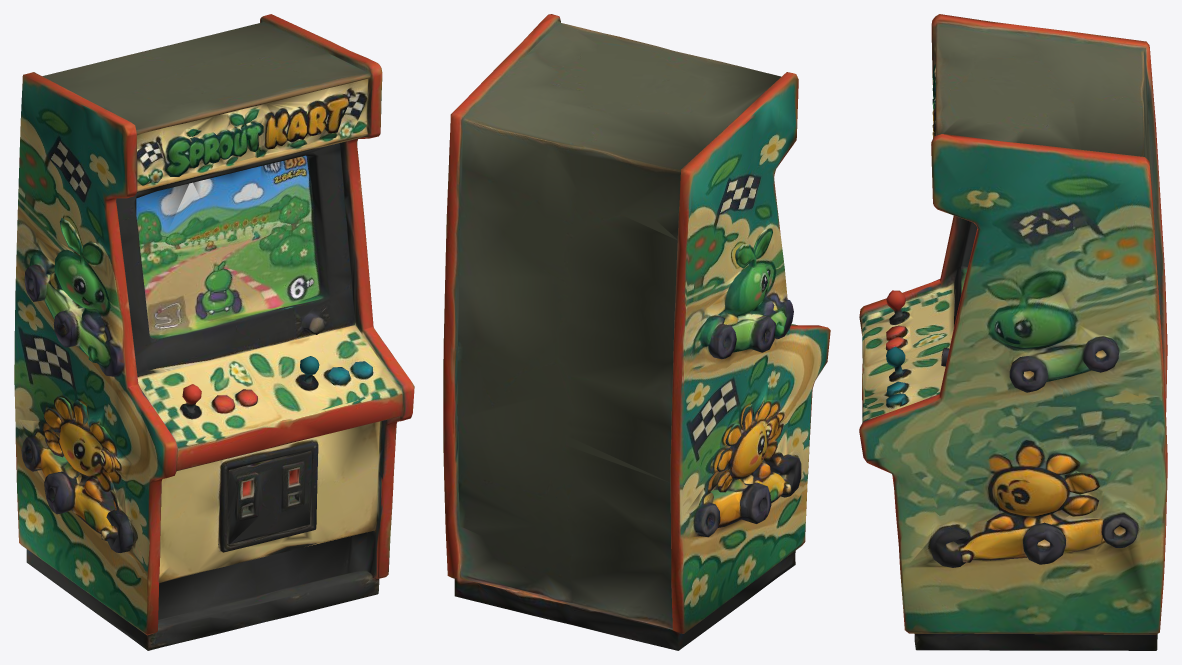
Rendered from cab_kart.glb.
3 views of the same model, side by side, from view 1: azimuth 30°, elevation 25°; view 2: azimuth 150°, elevation 25°; view 3: azimuth 270°, elevation 25° (orthographic). The views are drawn at different scales.
Visible parts, largest first — view 1: tripo_node_077802cc-4bed-401b-8fb0-0f3be094275b; view 2: tripo_node_077802cc-4bed-401b-8fb0-0f3be094275b; view 3: tripo_node_077802cc-4bed-401b-8fb0-0f3be094275b.
Boxes of the visible parts, x1,y1,x2,y2 form: tripo_node_077802cc-4bed-401b-8fb0-0f3be094275b: (14,14,414,650); tripo_node_077802cc-4bed-401b-8fb0-0f3be094275b: (443,14,830,650); tripo_node_077802cc-4bed-401b-8fb0-0f3be094275b: (859,14,1167,650).
Size of the model in its own units: 0.5713 by 0.9797 by 0.5274.
1 material, 1 textured.
